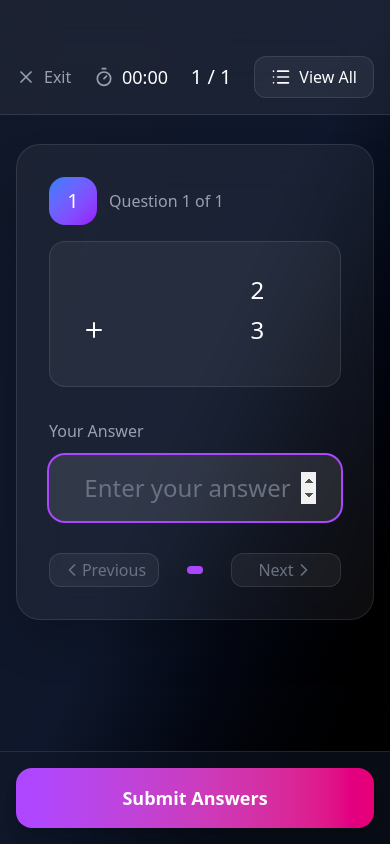
Test: RegularGame › renders the first question when game data is available and allows submitting a correct answer
Expected: the heading "Question 1 of 1" is shown, [109, 189, 224, 213]
Type "5" into the number field with placeholder "Enter your answer" at x=195, y=488, box [49, 455, 341, 521]
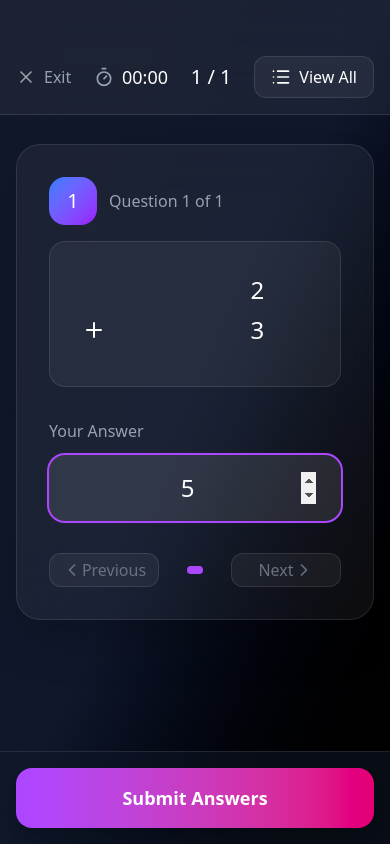
Click the button "Submit Answers" at x=195, y=798, box [16, 768, 374, 828]
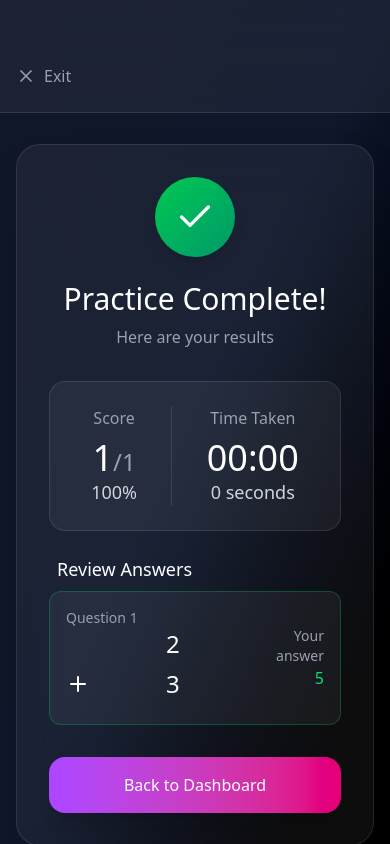
Result: the heading "Practice Complete!" is shown at [49, 281, 341, 317]
Result: the text "Score" is shown at [91, 406, 137, 430]
